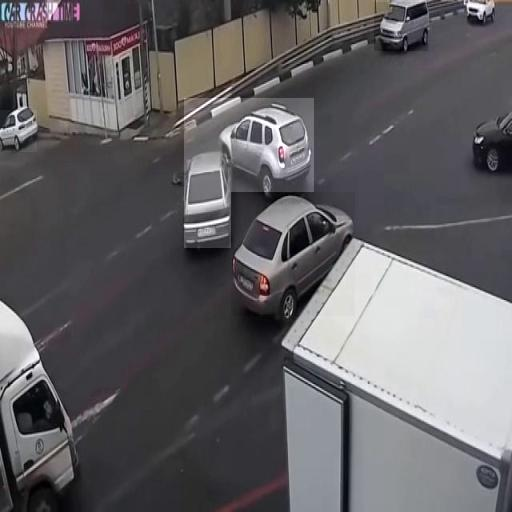小汽车: (231, 192, 355, 316), (374, 2, 428, 51), (0, 110, 37, 152)
小汽车撞小汽车: (184, 98, 314, 248)
